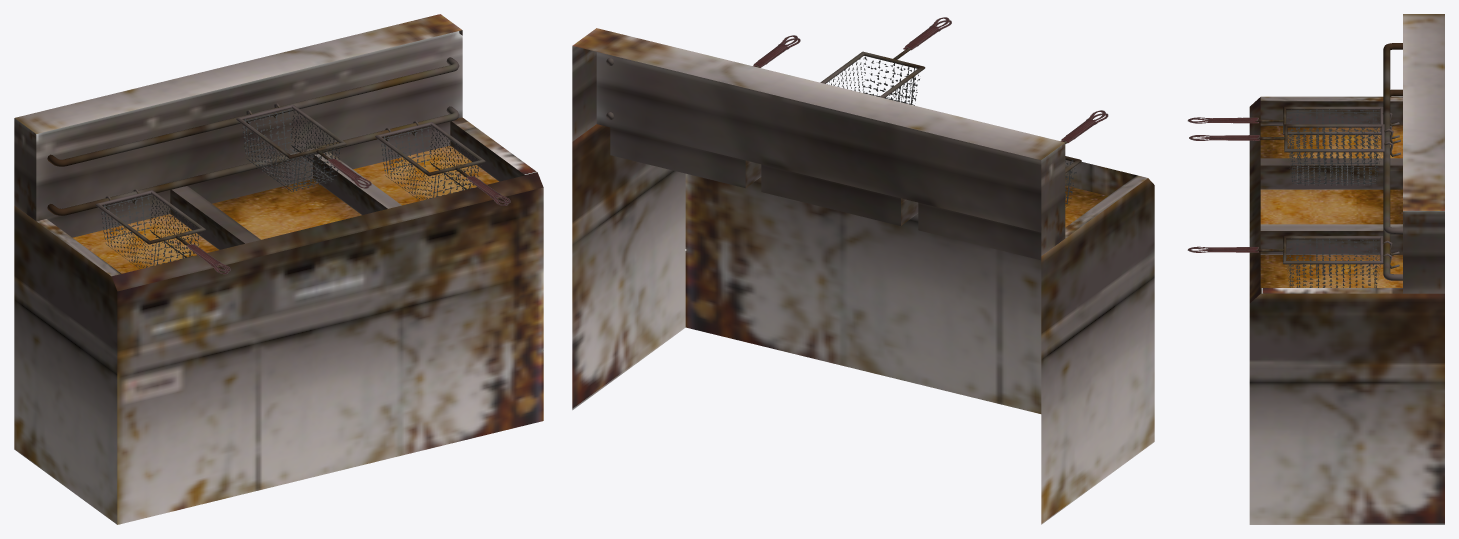
Rendered from deep_fryer.FBX.
The picture shows the model from 3 angles, left to right: view 1: azimuth 30°, elevation 25°; view 2: azimuth 150°, elevation 25°; view 3: azimuth 270°, elevation 25°; orthographic projection. The views are drawn at different scales.
Visible parts, largest first — view 1: deep_fryer, fry_basket, fry_basket_1, fry_basket_2; view 2: deep_fryer, fry_basket, fry_basket_1; view 3: deep_fryer, fry_basket, fry_basket_2, fry_basket_1.
Part boxes in pixels (<box>): deep_fryer: <box>14,14,543,524</box>; fry_basket: <box>236,103,371,191</box>; fry_basket_1: <box>95,189,230,274</box>; fry_basket_2: <box>375,120,510,205</box>; deep_fryer: <box>572,28,1154,524</box>; fry_basket: <box>820,17,951,105</box>; fry_basket_1: <box>1060,110,1108,207</box>; deep_fryer: <box>1249,14,1444,524</box>; fry_basket: <box>1189,124,1400,185</box>; fry_basket_2: <box>1187,236,1399,287</box>; fry_basket_1: <box>1187,106,1399,158</box>.
Size of the model in its own units: 145 by 108 by 81.29.
